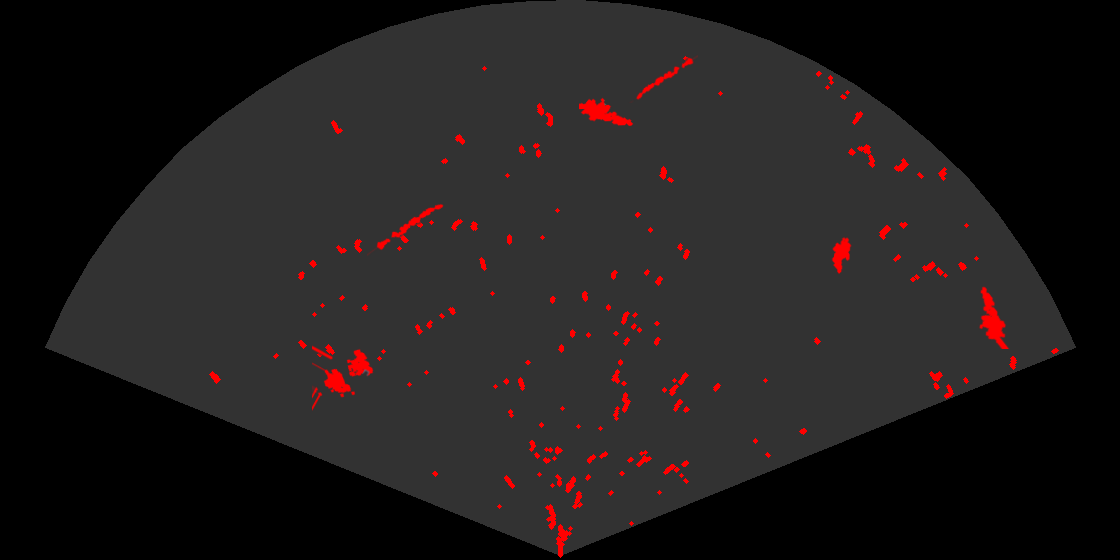AUV: (830, 235, 853, 276)
cage: (312, 344, 375, 412)
chain: (367, 202, 445, 256), (628, 54, 698, 103)
frogman: (978, 285, 1011, 349), (579, 96, 634, 128)
